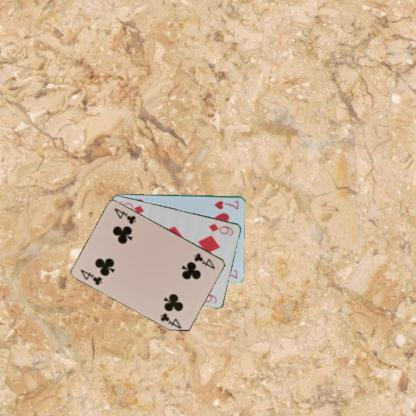4c: (191, 250, 216, 271), (78, 266, 104, 286)
6d: (206, 220, 235, 236)
7h: (212, 198, 240, 210)
